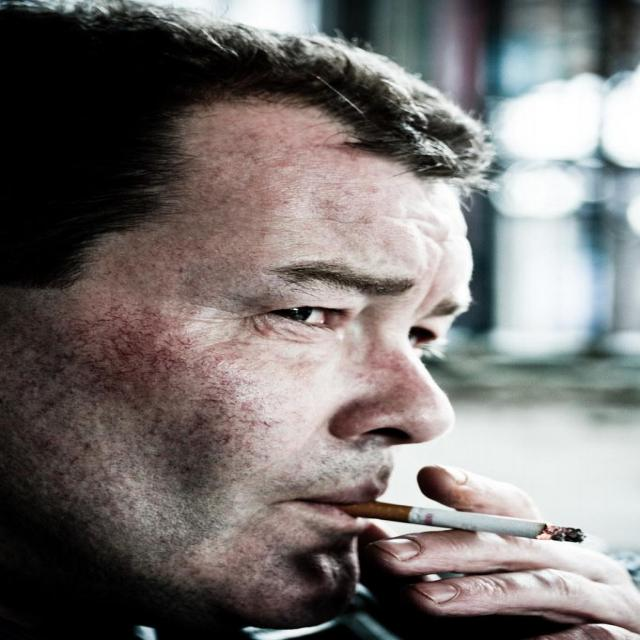Сигарета: (336, 497, 587, 542)
Тело: (14, 7, 626, 640)
